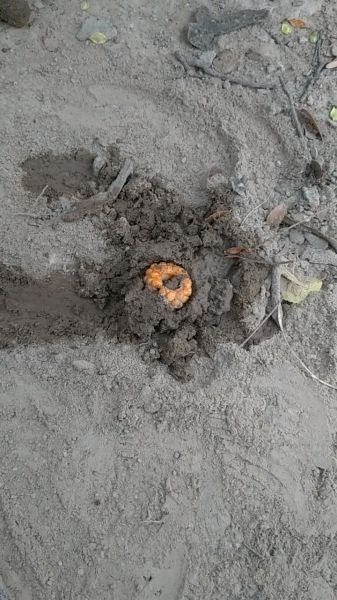eggs: (132, 251, 203, 316)
